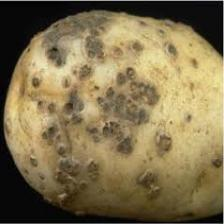Diseased-fungal potato: (4, 9, 224, 220)
